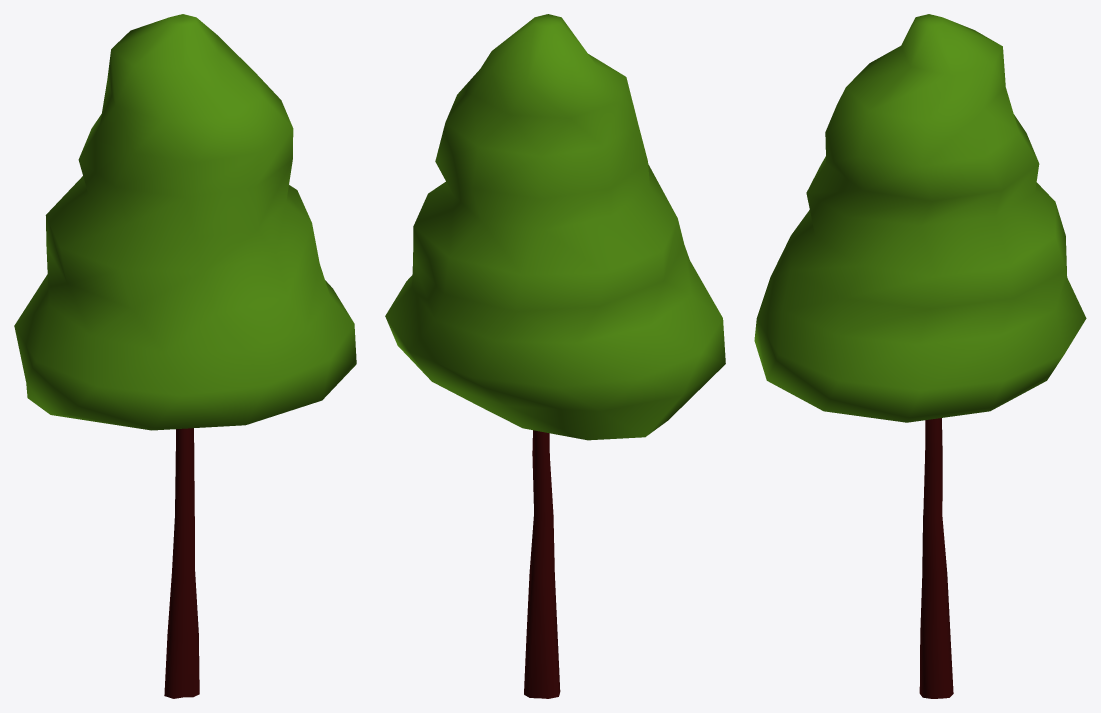
The model's file is Tree3.FBX.
The picture shows the model from 3 angles, left to right: view 1: azimuth 30°, elevation 25°; view 2: azimuth 150°, elevation 25°; view 3: azimuth 270°, elevation 25°; orthographic projection.
Parts seen in each view (by area): view 1: Tree3; view 2: Tree3; view 3: Tree3.
Boxes of the visible parts, x1,y1,x2,y2 form: Tree3: [14, 14, 356, 698]; Tree3: [385, 14, 725, 698]; Tree3: [754, 14, 1086, 698].
Bounding box in the file's own units: 86.92 × 189 × 84.65.
